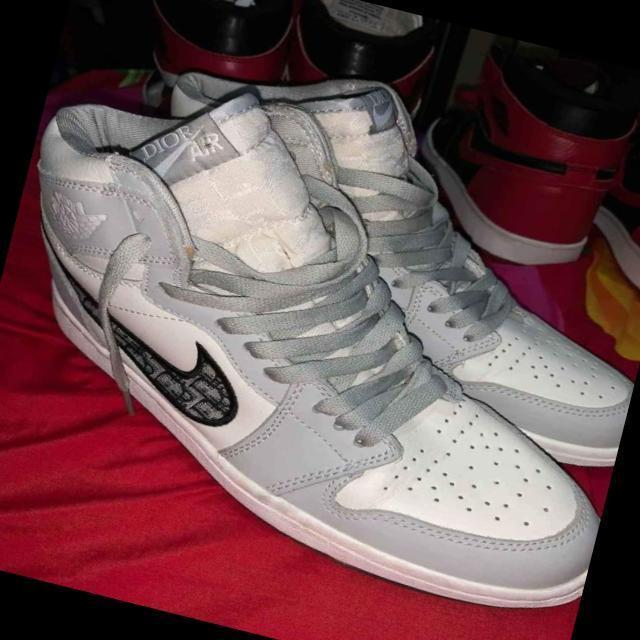nike fake jordan 1: (0, 43, 640, 630), (104, 25, 640, 477)
